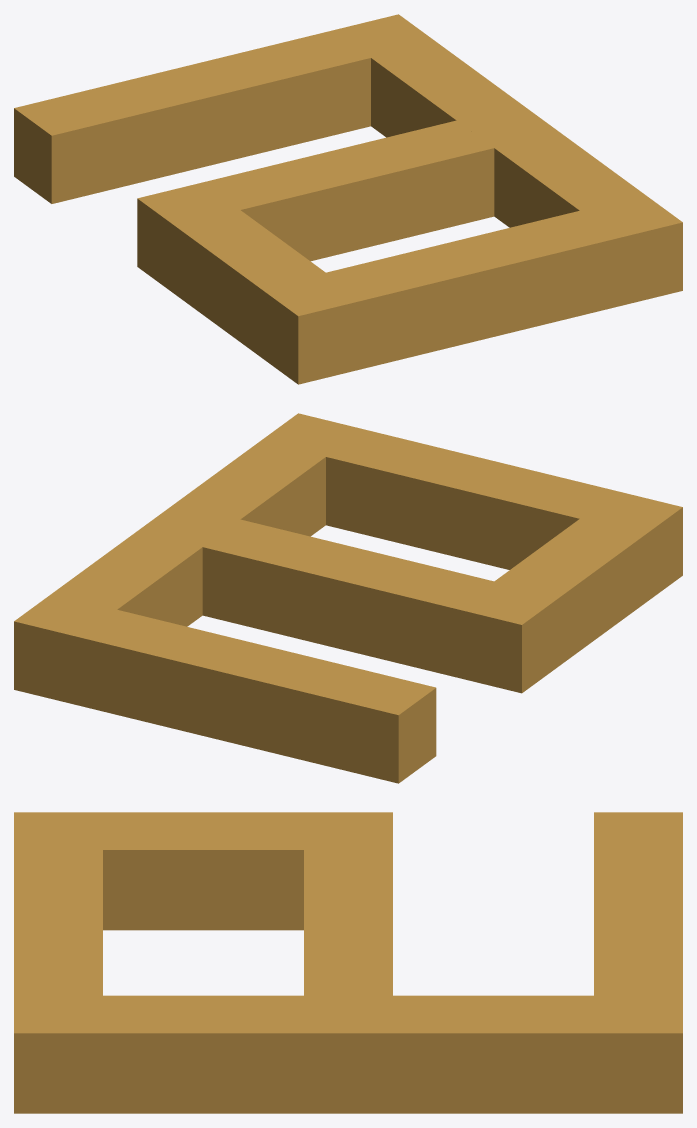
File: fragment.glb
3 renders of one model, top to bottom at view 1: azimuth 30°, elevation 25°; view 2: azimuth 150°, elevation 25°; view 3: azimuth 270°, elevation 25°, orthographic. The views are drawn at different scales.
Parts seen in each view (by area): view 1: Number 9; view 2: Number 9; view 3: Number 9.
Boxes of the visible parts, x1=… form: Number 9: x1=14, y1=14, x2=682, y2=384; Number 9: x1=14, y1=413, x2=682, y2=783; Number 9: x1=14, y1=812, x2=682, y2=1113.
Bounding box in the file's own units: 2 × 0.34 × 2.56.
